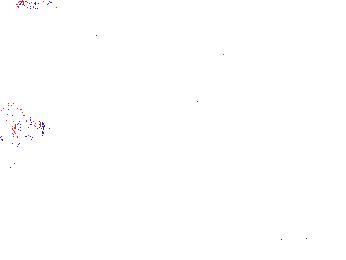X-ray fish: (1, 101, 56, 144), (193, 217, 251, 245)
red belly glassfish: (16, 1, 54, 12)
